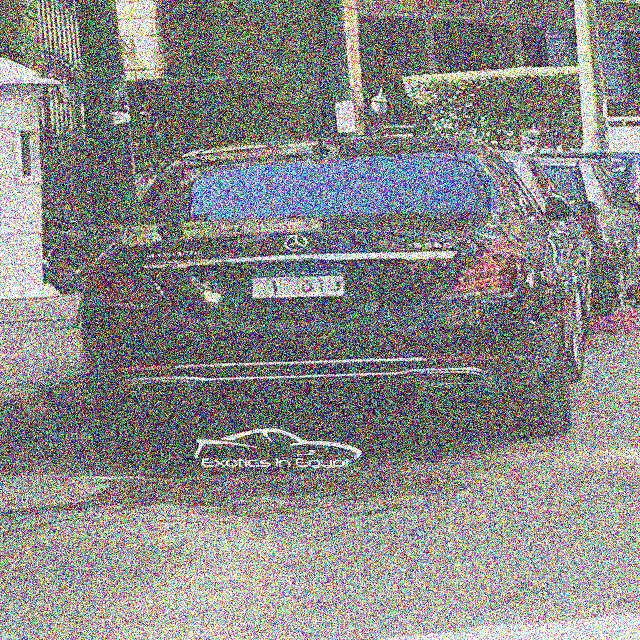License Plate: (249, 260, 348, 300)
